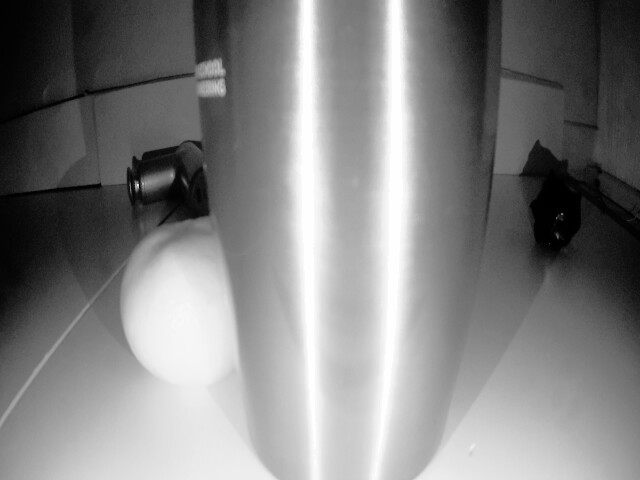silver: (522, 174, 583, 254)
